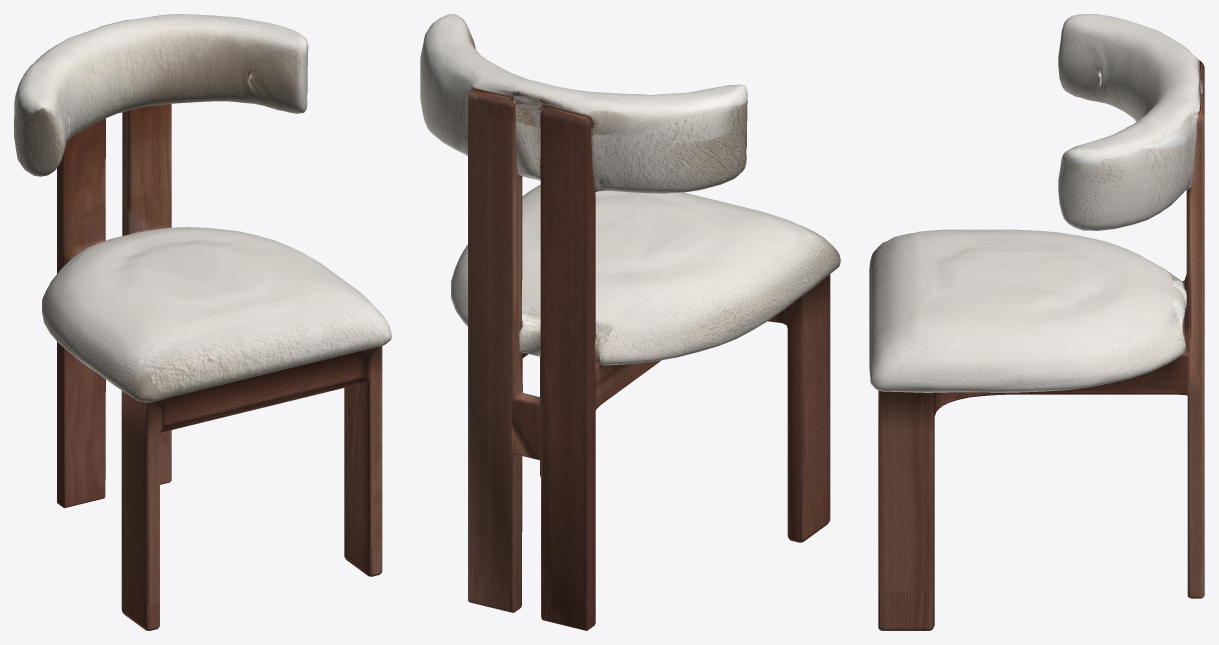
Rendered from Couture_Chair_0404021928_texture.glb.
3 views of the same model, side by side, from view 1: azimuth 30°, elevation 25°; view 2: azimuth 150°, elevation 25°; view 3: azimuth 270°, elevation 25° (orthographic). The views are drawn at different scales.
Parts seen in each view (by area): view 1: Mesh_0.001; view 2: Mesh_0.001; view 3: Mesh_0.001.
Boxes of the visible parts, x1,y1,x2,y2 form: Mesh_0.001: (14,14,391,630); Mesh_0.001: (420,14,840,630); Mesh_0.001: (869,14,1204,630).
Bounding box in the file's own units: 0.5057 × 0.8128 × 0.4974.
1 material, 1 textured.
